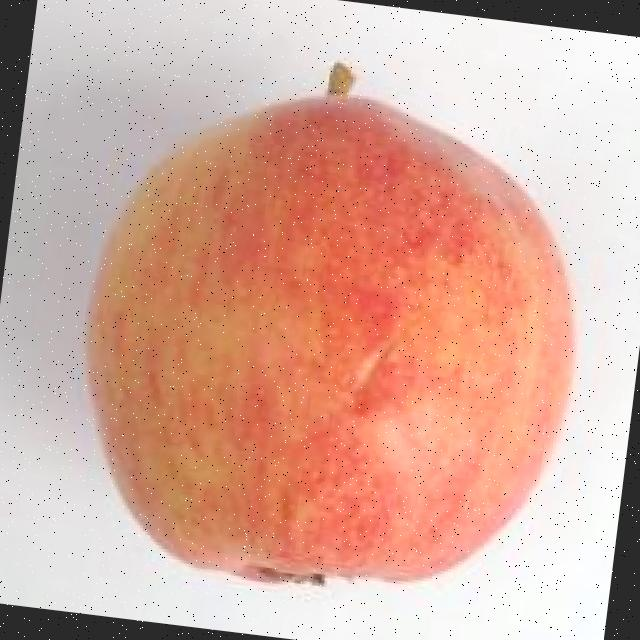apple: (14, 5, 640, 640)
